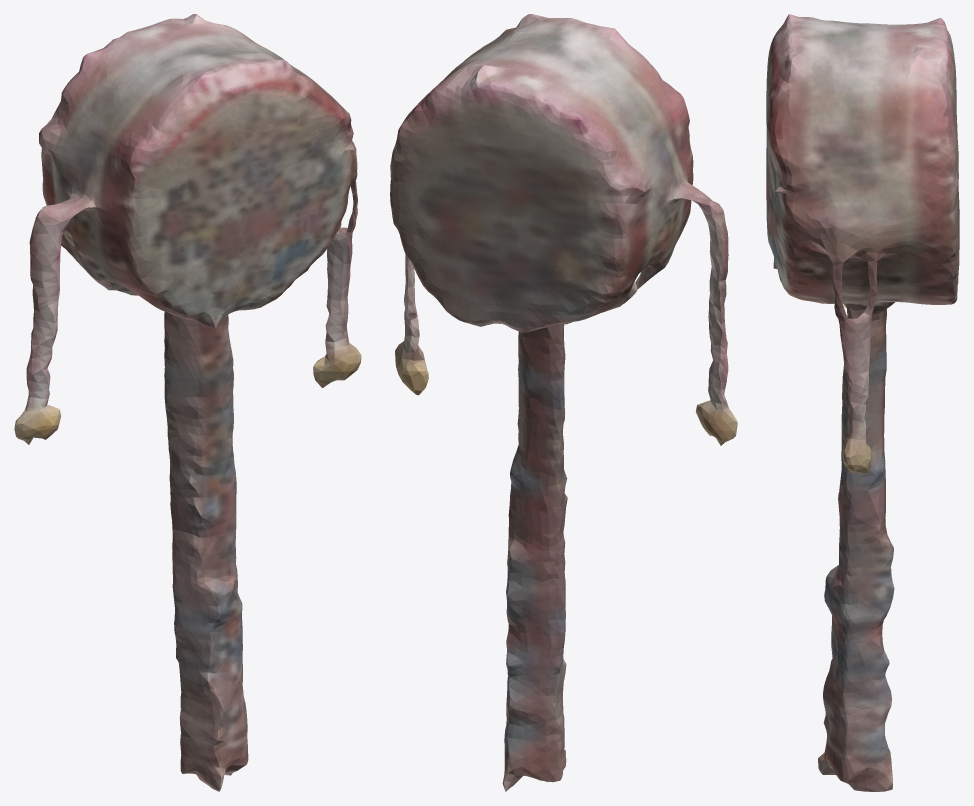
The model's file is rattle_drum.glb.
The picture shows the model from 3 angles, left to right: view 1: azimuth 30°, elevation 25°; view 2: azimuth 150°, elevation 25°; view 3: azimuth 270°, elevation 25°; orthographic projection.
Bounding box in the file's own units: 0.4685 × 0.965 × 0.2261.
1 material, 1 textured.
